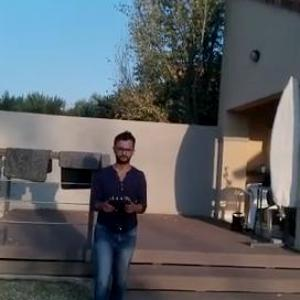follow: (83, 125, 151, 299)
